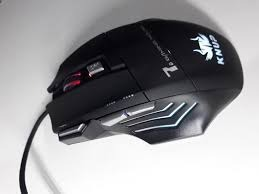mouse: (41, 17, 248, 153)
